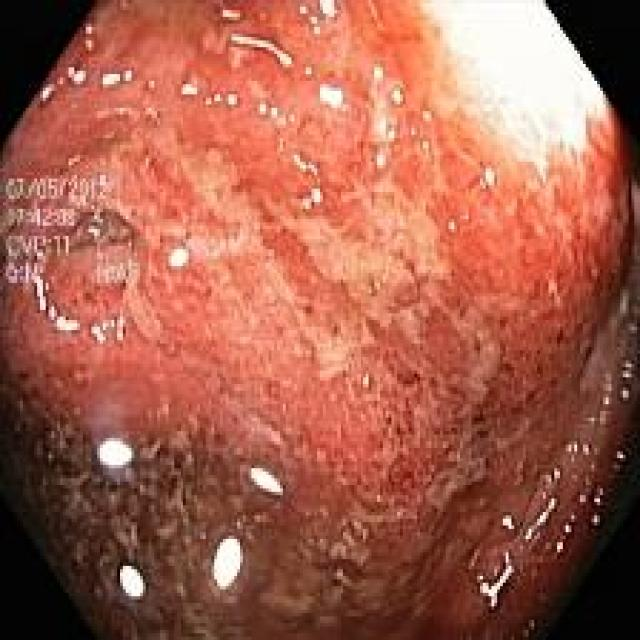ulcerative-colitis-grade-3: (0, 0, 640, 637)
